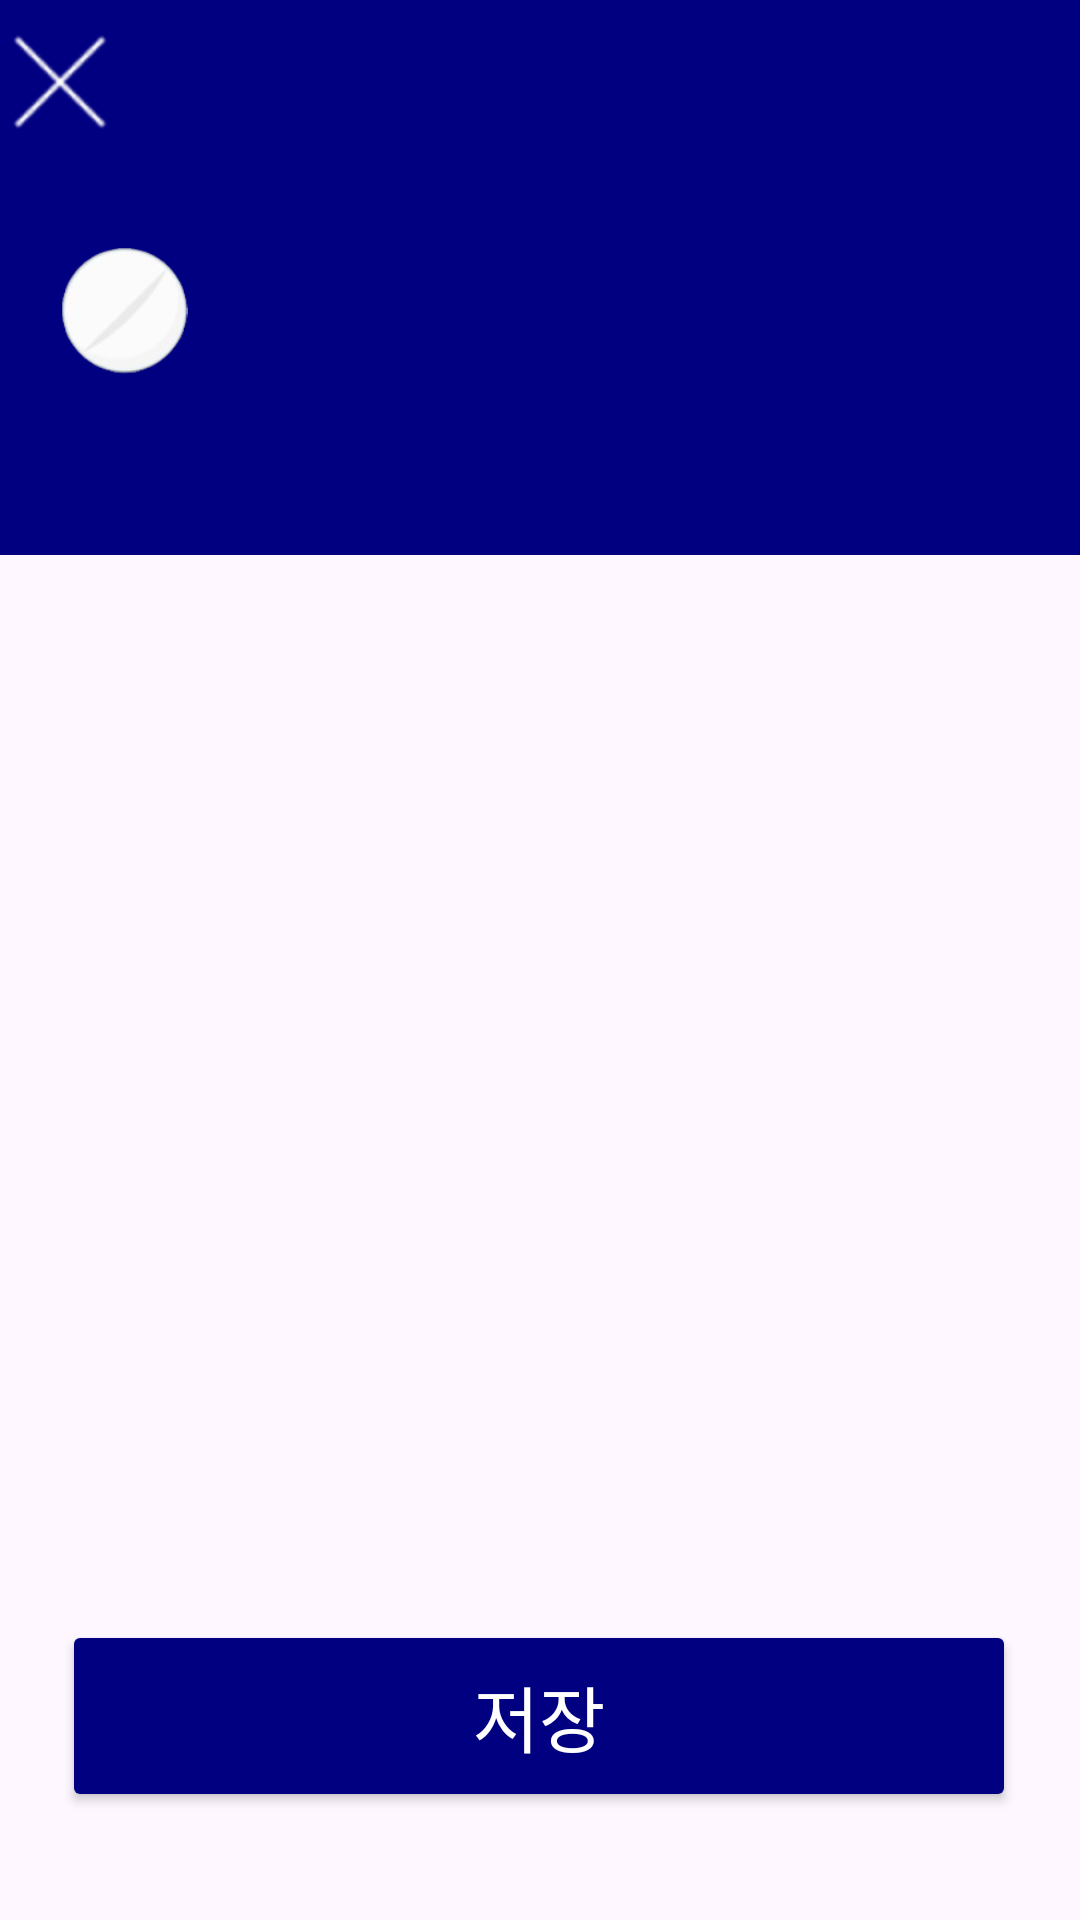

Screen size 1080 × 1920. Icon name, then its center in pixels as [x,y]:
close: [60,82]
pill: [125,310]
